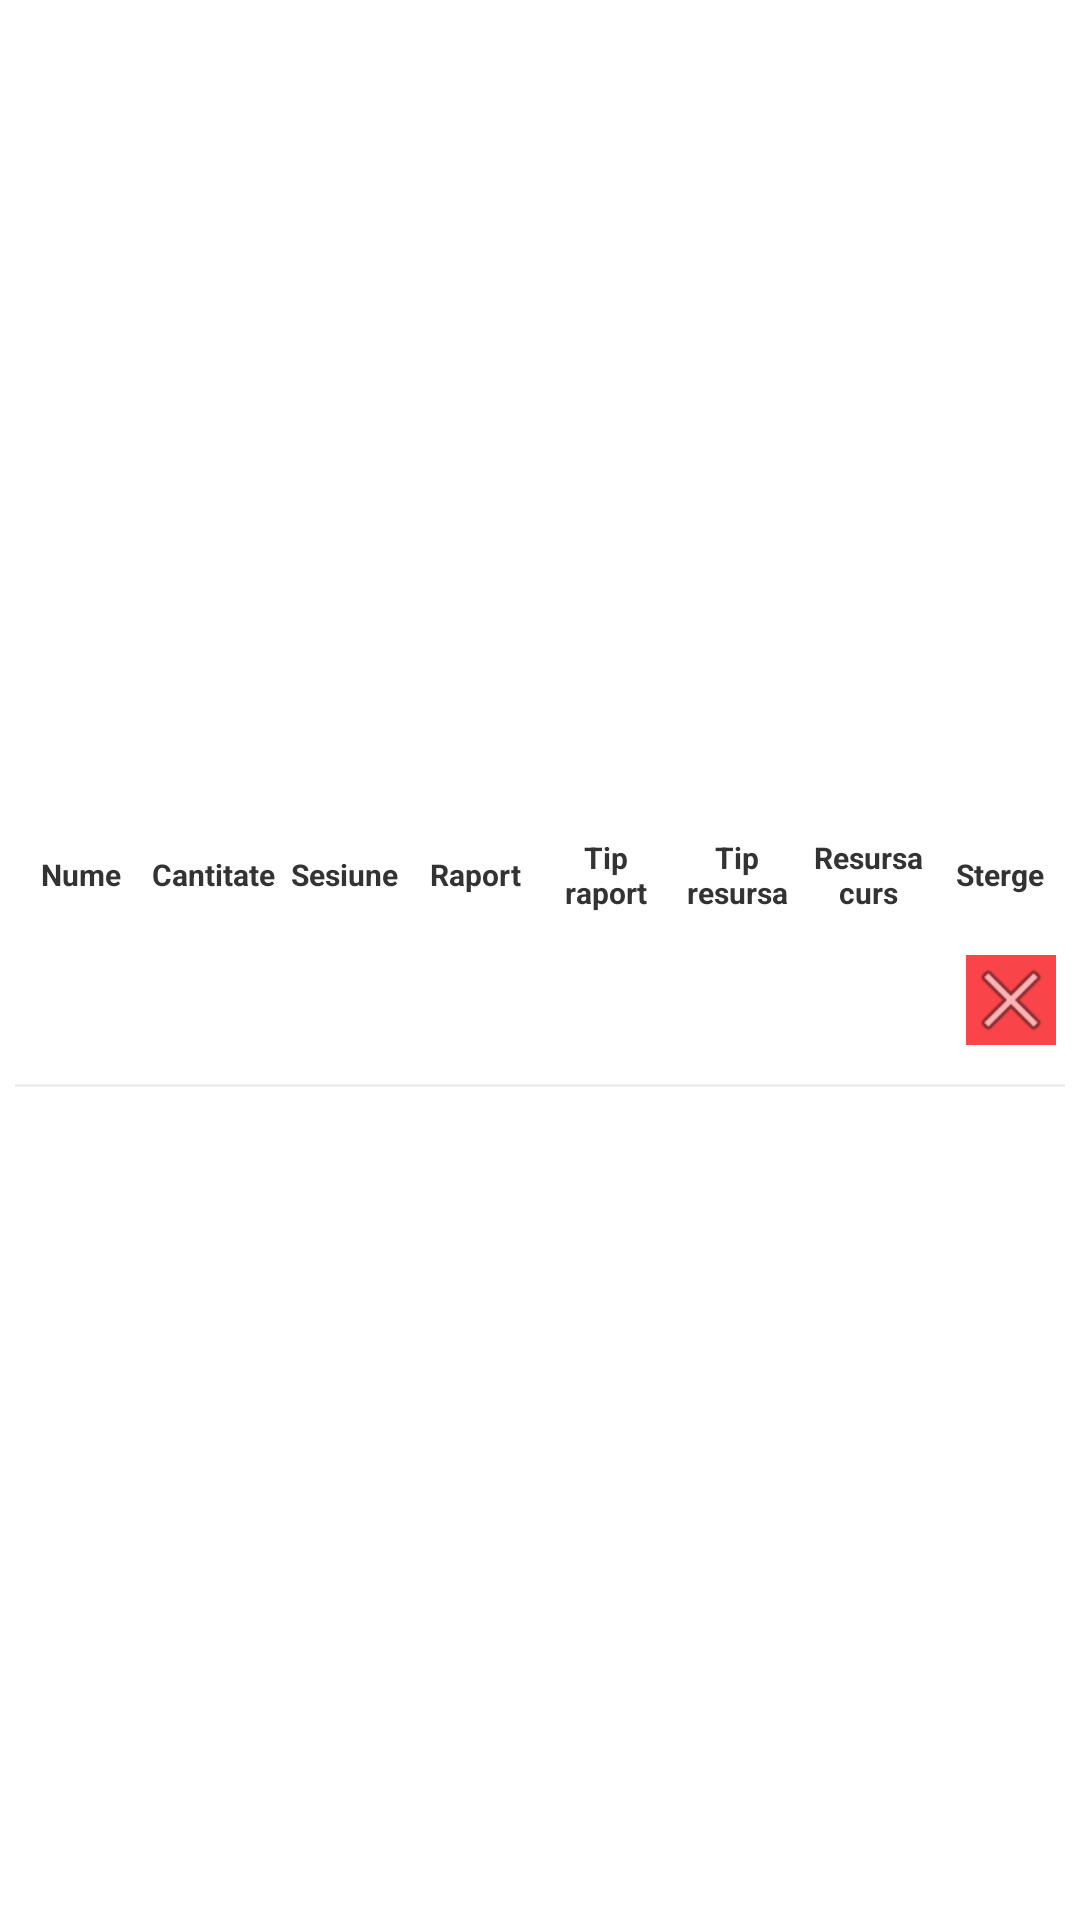

Icons on this 1080px x 1920px Android screen, each with the point to tap as [x,y]:
close clear cancel: [1011,1000]
